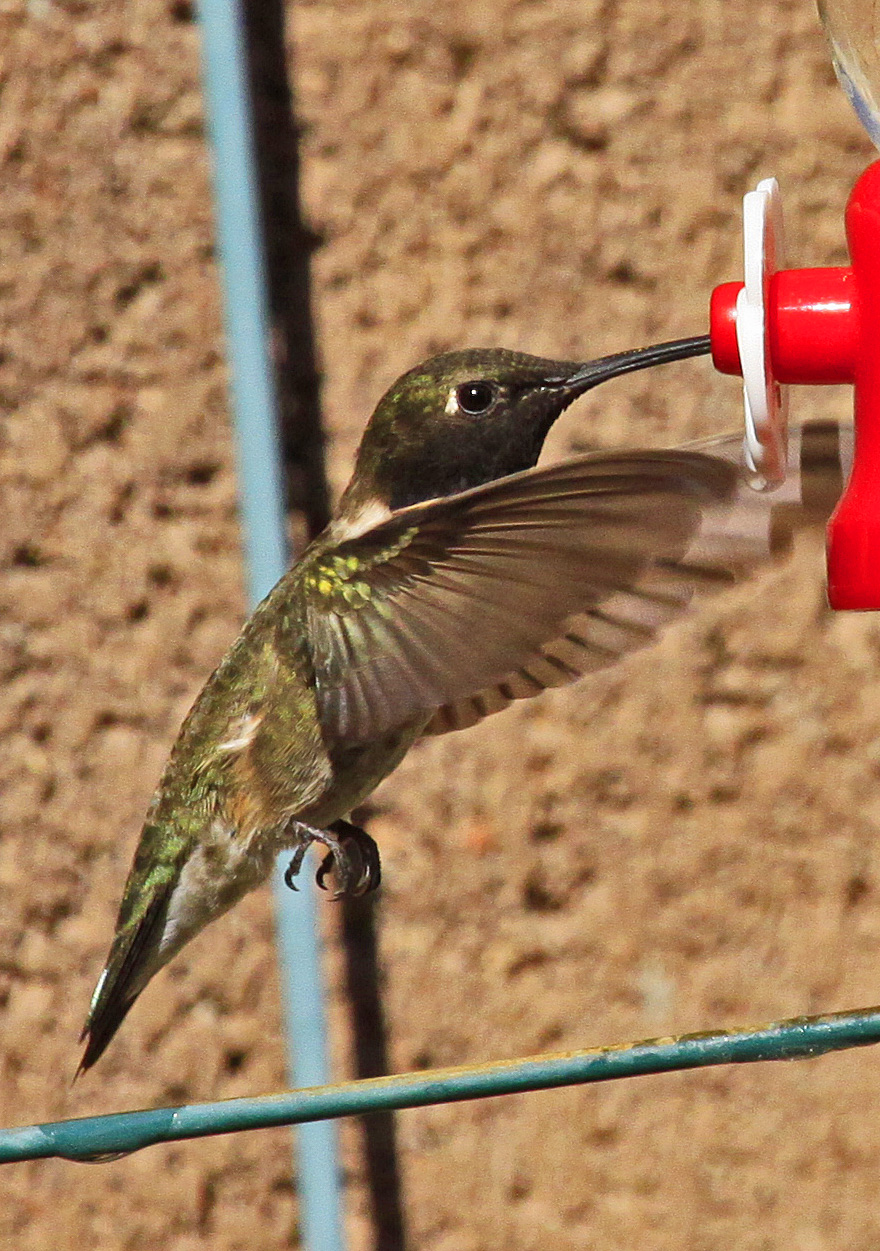archilochus alexandri: (71, 330, 711, 1072)
